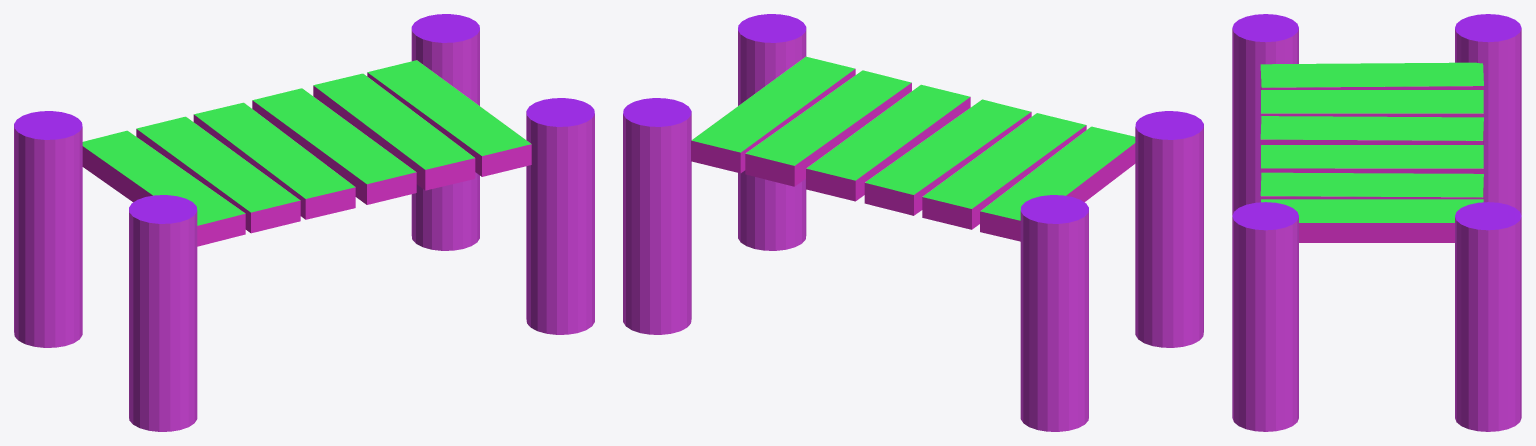
Rendered from station.fbx.
The picture shows the model from 3 angles, left to right: view 1: azimuth 30°, elevation 25°; view 2: azimuth 150°, elevation 25°; view 3: azimuth 270°, elevation 25°; orthographic projection. The views are drawn at different scales.
Visible parts, largest first — view 1: Cube; view 2: Cube; view 3: Cube.
Part boxes in pixels (bbox=[...]): Cube: bbox=[14, 14, 594, 431]; Cube: bbox=[623, 14, 1203, 431]; Cube: bbox=[1232, 14, 1521, 431].
Bounding box in the file's own units: 460 × 200 × 260.
